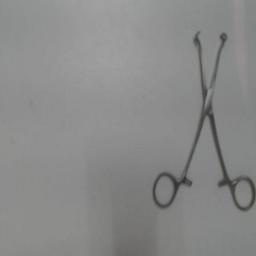Babcock Tissue Forceps: (148, 28, 256, 216)
